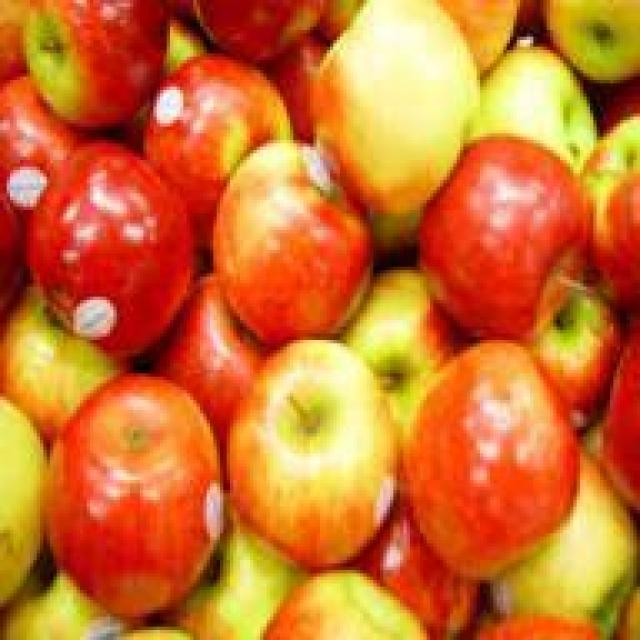apple: (40, 367, 223, 610), (404, 346, 584, 566), (423, 133, 597, 350), (227, 344, 393, 564), (310, 3, 480, 200), (220, 140, 373, 343), (36, 137, 186, 330), (130, 60, 287, 240), (347, 260, 490, 423), (150, 264, 267, 414)
